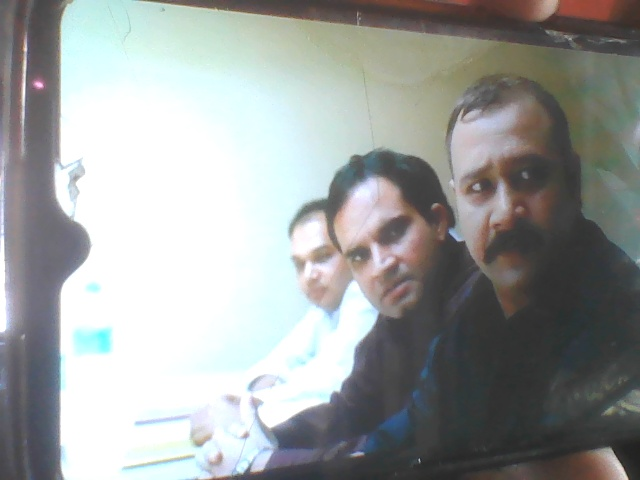fake: (433, 66, 598, 300), (328, 144, 458, 329)
